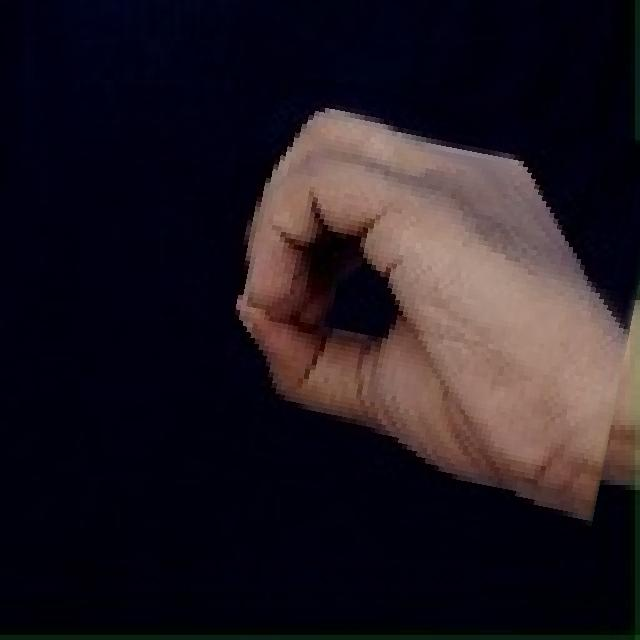O: (192, 83, 640, 517)
